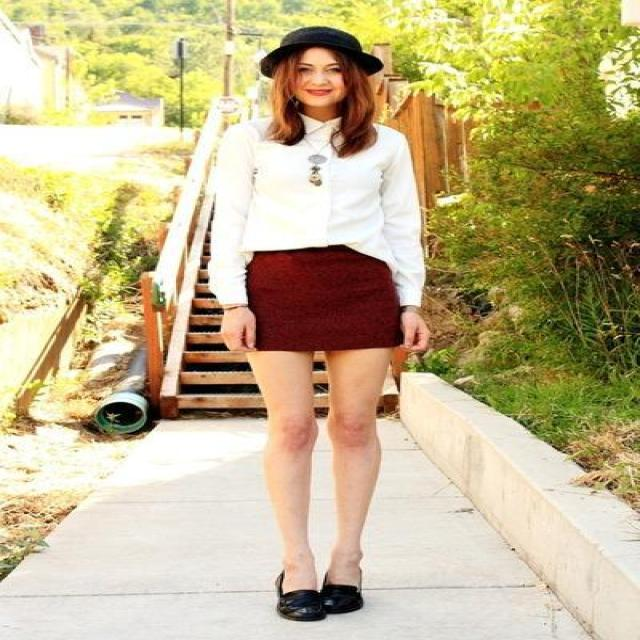hat: (268, 26, 382, 74)
shirt: (205, 115, 429, 305)
shoe: (276, 576, 362, 621)
skirt: (243, 244, 410, 370)
